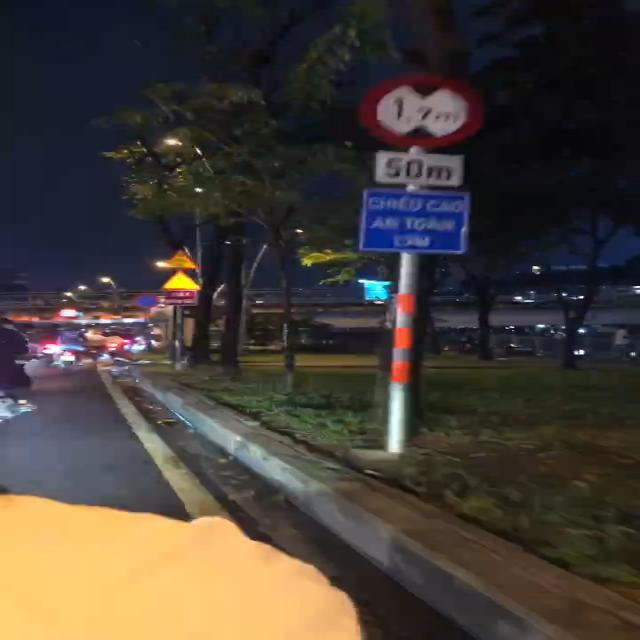Bien bao han che chieu cao: (361, 63, 497, 153)
